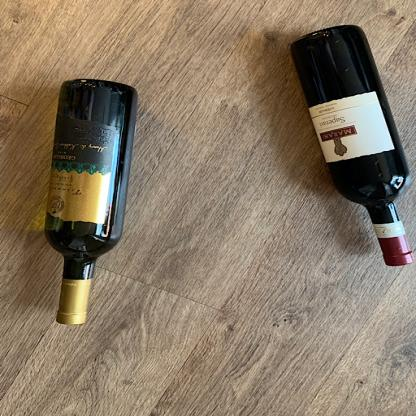trash: (287, 24, 416, 266), (43, 76, 145, 326)
